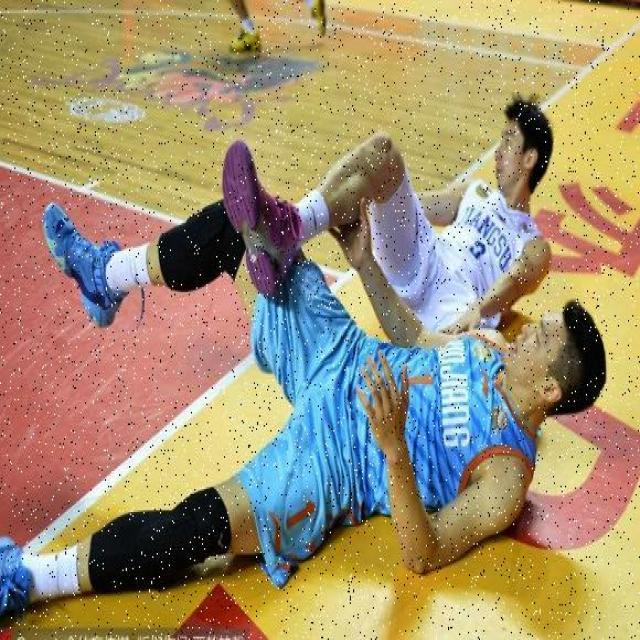fall: (36, 296, 587, 568)
